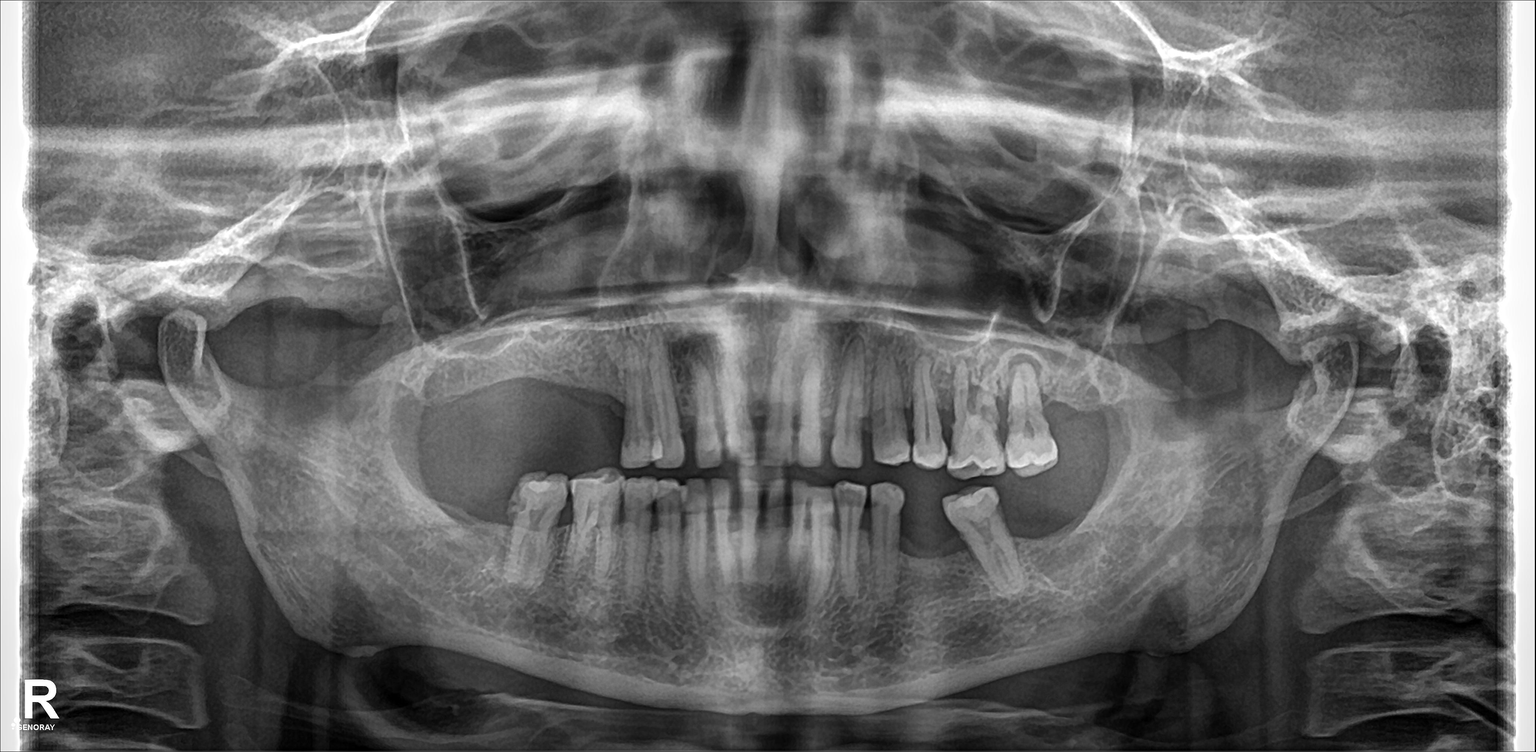Missing Tooth: (568, 341, 617, 439), (521, 337, 562, 448), (1017, 478, 1065, 570), (428, 348, 471, 450), (1048, 374, 1097, 453), (1069, 478, 1107, 578), (901, 495, 946, 578), (397, 357, 435, 450), (479, 346, 515, 444), (460, 465, 492, 569), (421, 460, 448, 553)
